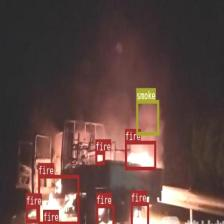fire: (37, 174, 78, 224), (124, 140, 156, 169), (130, 202, 148, 224), (96, 204, 114, 224), (26, 205, 38, 222), (95, 151, 105, 164)
smoke: (136, 100, 158, 134)
